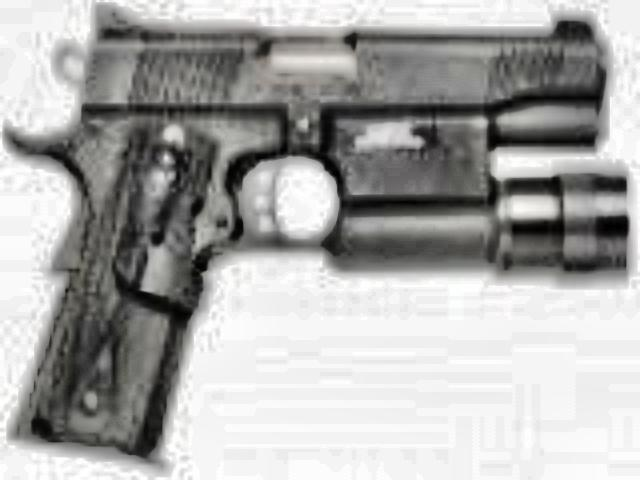pistol: (16, 0, 596, 460)
